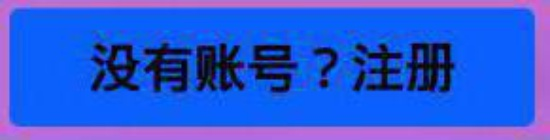Button: (1, 1, 549, 139)
